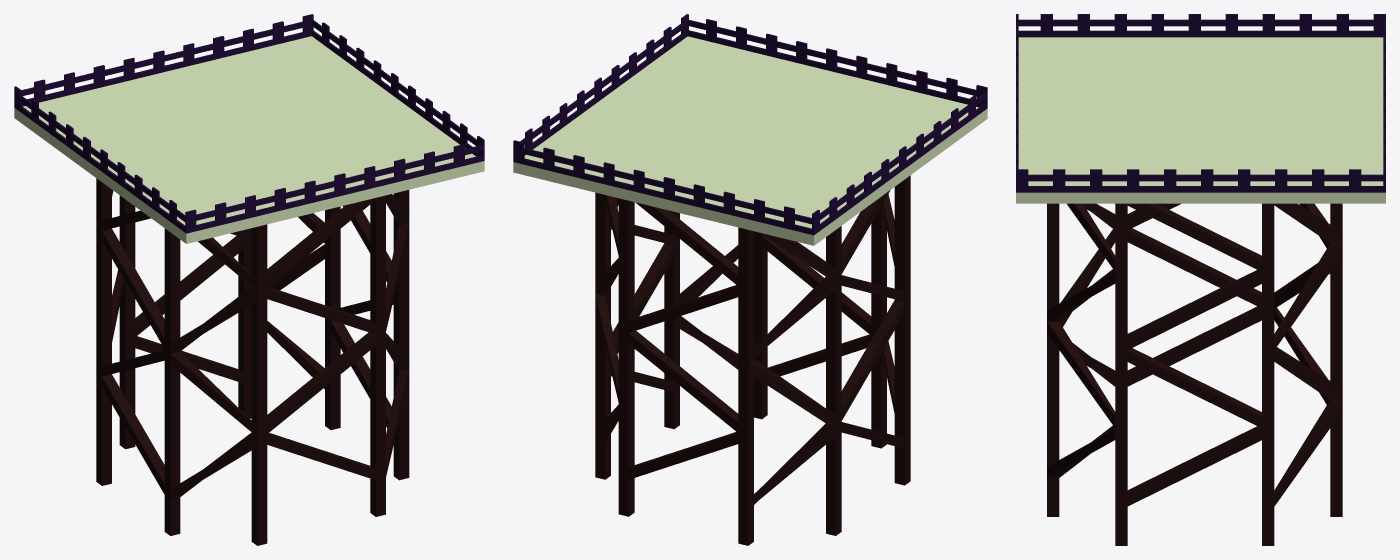
The model's file is PlaceBox.fbx.
The picture shows the model from 3 angles, left to right: view 1: azimuth 30°, elevation 25°; view 2: azimuth 150°, elevation 25°; view 3: azimuth 270°, elevation 25°; orthographic projection. The views are drawn at different scales.
Parts seen in each view (by area): view 1: Support, Floor, Border; view 2: Support, Floor, Border; view 3: Floor, Support, Border.
Boxes of the visible parts, box(x1,y1,x2,y2) form: Support: box(96, 178, 409, 545); Floor: box(14, 36, 484, 243); Border: box(14, 14, 484, 233); Support: box(595, 175, 910, 545); Floor: box(513, 36, 987, 245); Border: box(513, 14, 987, 235); Floor: box(1016, 37, 1385, 203); Support: box(1047, 203, 1342, 545); Border: box(1016, 14, 1385, 192).
Size of the model in its own units: 3000 by 3502 by 3000.
